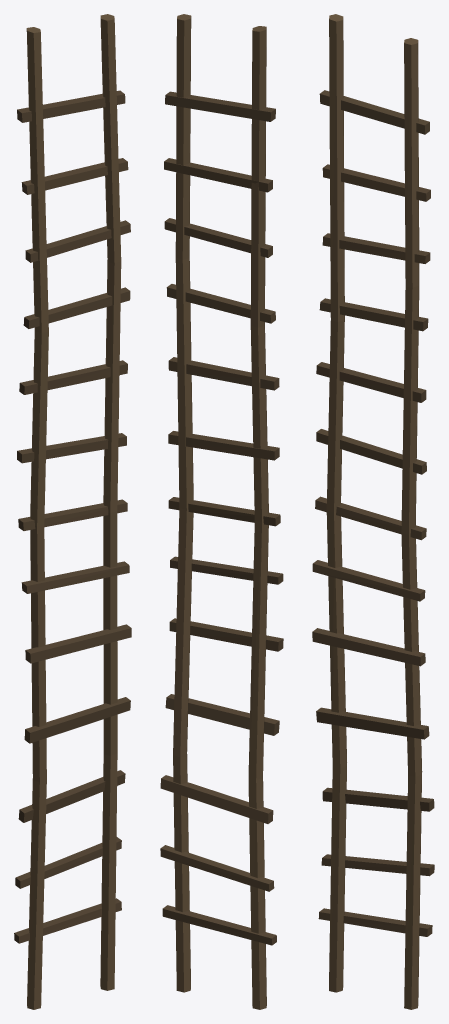
File: SM_Prop_Ladder_01.glb
3 views of the same model, side by side, from view 1: azimuth 30°, elevation 25°; view 2: azimuth 150°, elevation 25°; view 3: azimuth 330°, elevation 25° (orthographic).
Visible parts, largest first — view 1: SM_Prop_Ladder_01_part00; view 2: SM_Prop_Ladder_01_part00; view 3: SM_Prop_Ladder_01_part00.
Boxes of the visible parts, box(x1,y1,x2,y2) form: SM_Prop_Ladder_01_part00: box(14, 14, 131, 1009); SM_Prop_Ladder_01_part00: box(160, 14, 283, 1009); SM_Prop_Ladder_01_part00: box(312, 14, 434, 1009).
Bounding box in the file's own units: 0.7061 × 6.02 × 0.2043.
Materials: 1 (1 with a texture image).
